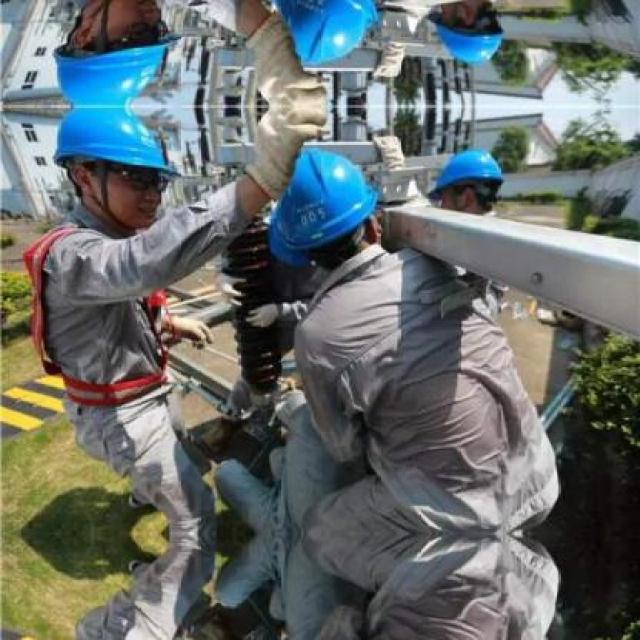helmet: (44, 109, 181, 232), (262, 141, 384, 268), (43, 0, 182, 105), (261, 0, 384, 72), (424, 141, 508, 221), (424, 0, 509, 72)
